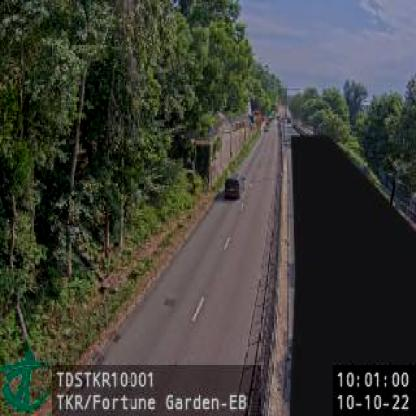Car: (224, 173, 244, 199)
